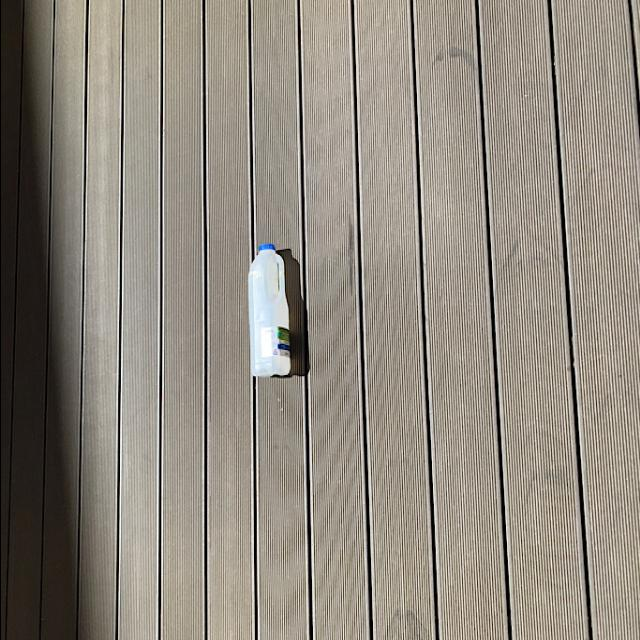HDPEM: (244, 241, 294, 385)
